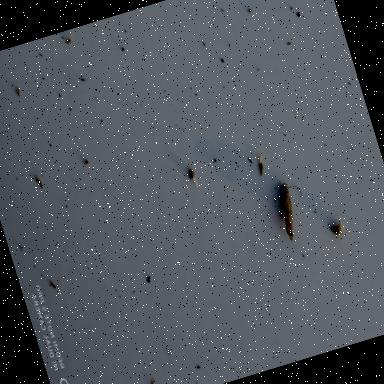pbw: (264, 169, 320, 246), (324, 216, 350, 246)
